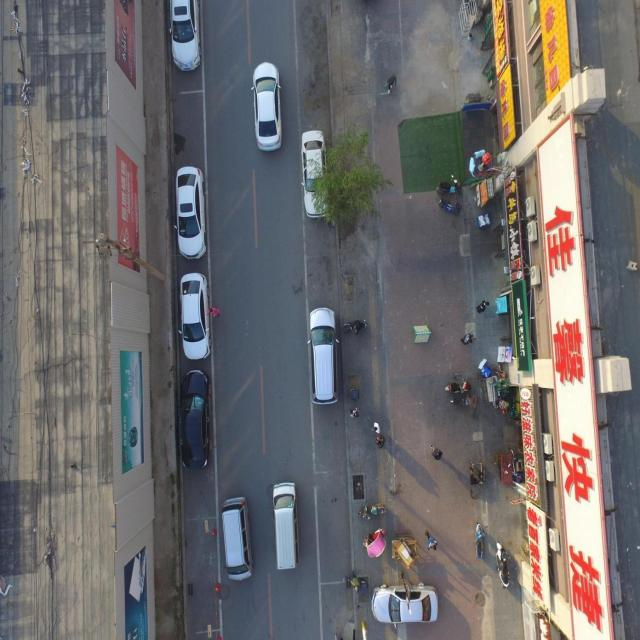p3rson: (424, 528, 437, 552), (385, 72, 396, 94), (349, 569, 359, 593), (429, 442, 442, 460), (476, 298, 490, 312), (459, 332, 472, 344), (208, 307, 222, 318), (349, 405, 359, 419), (375, 434, 384, 448), (372, 421, 380, 434)
